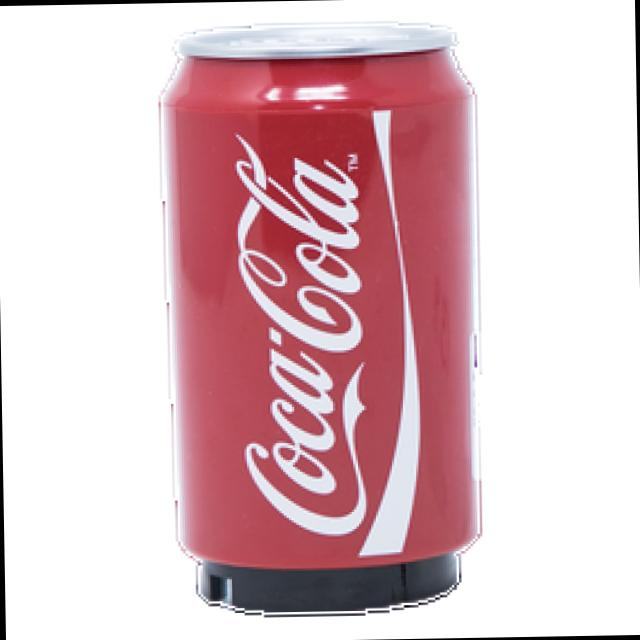cocacola: (148, 21, 470, 592)
